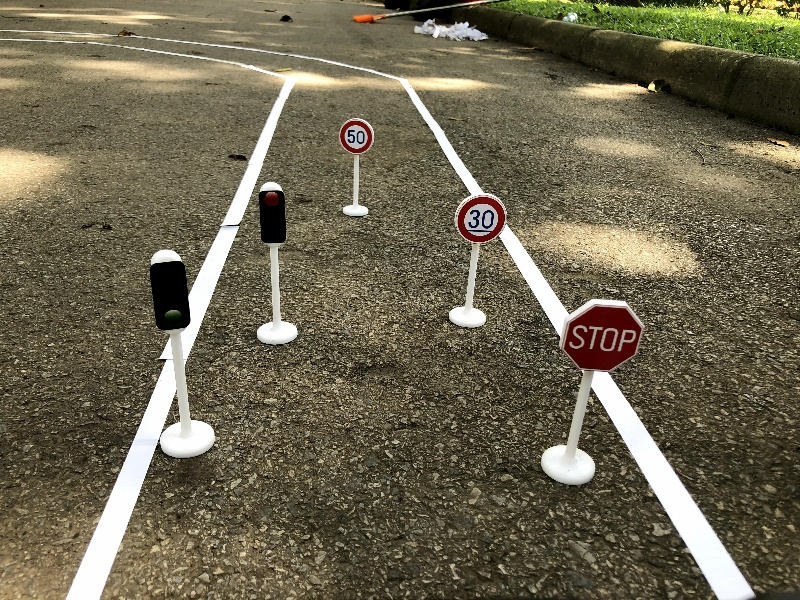Green: (149, 248, 218, 461)
Limit 30: (446, 192, 507, 328)
Limit 50: (340, 117, 375, 217)
Red: (254, 180, 297, 346)
Stop: (541, 298, 644, 487)
